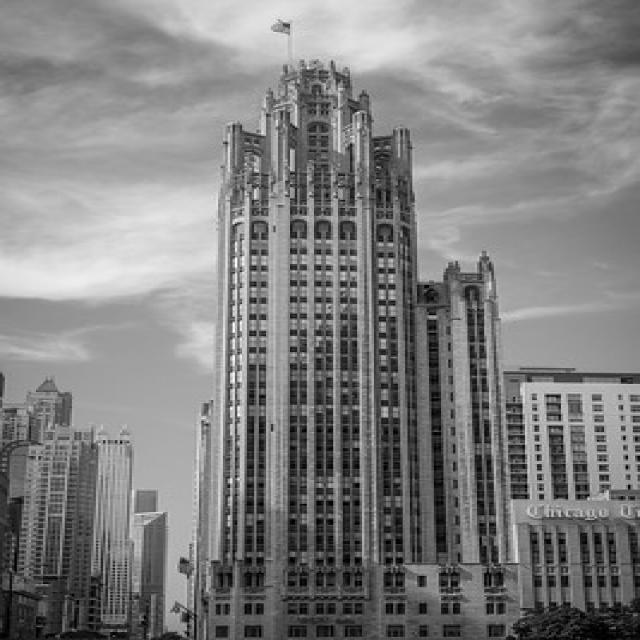Normal_building: (193, 51, 526, 640)
